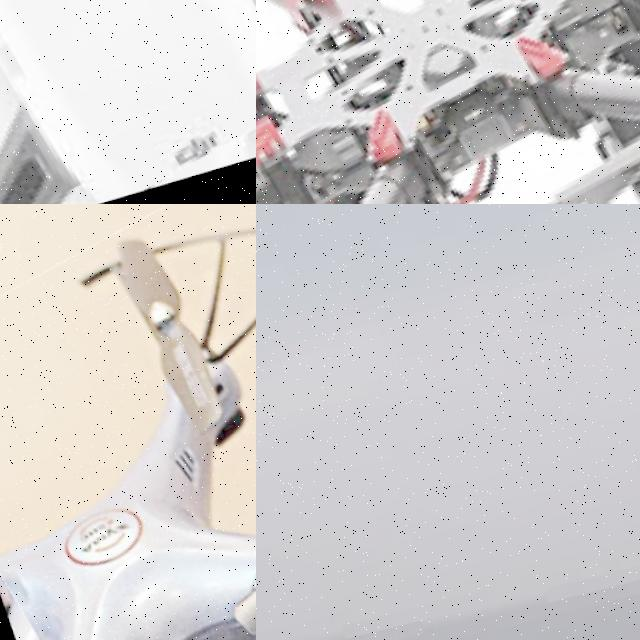drone: (0, 204, 256, 640), (256, 0, 640, 204), (0, 0, 256, 204)
